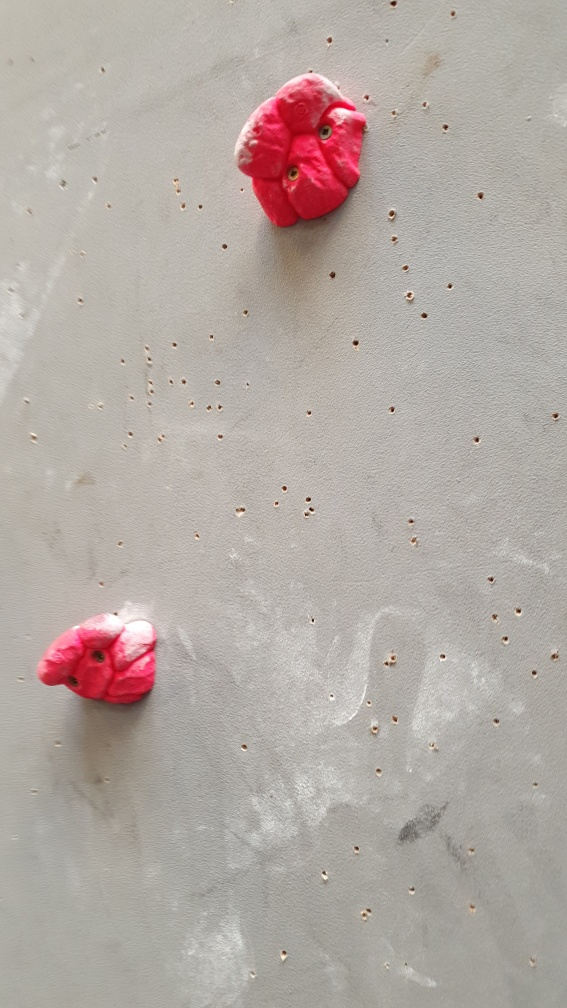Jug: (230, 70, 369, 235), (35, 604, 160, 709)
